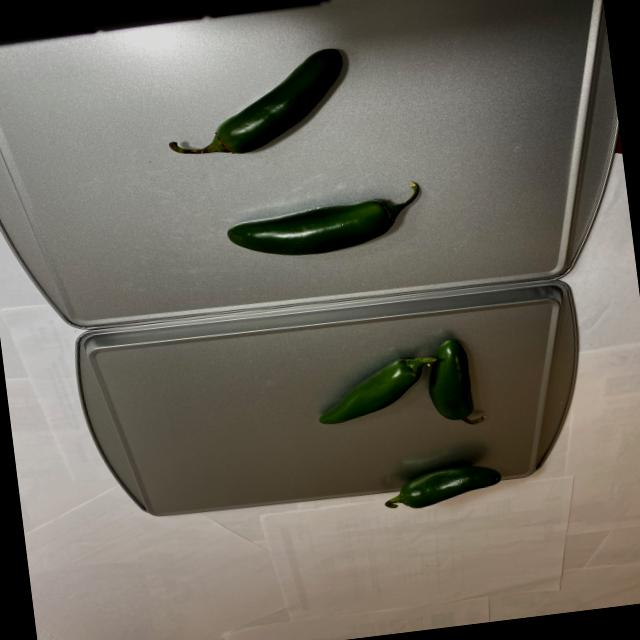chilli: (158, 44, 434, 274), (298, 311, 516, 522)
